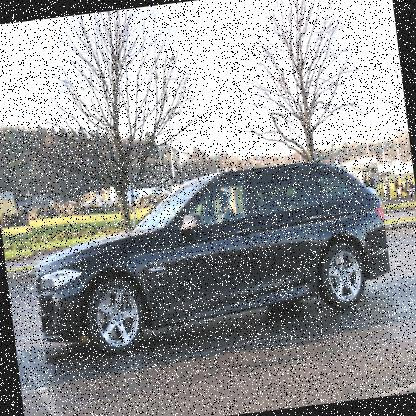Car: (25, 154, 396, 364), (94, 202, 107, 207)
